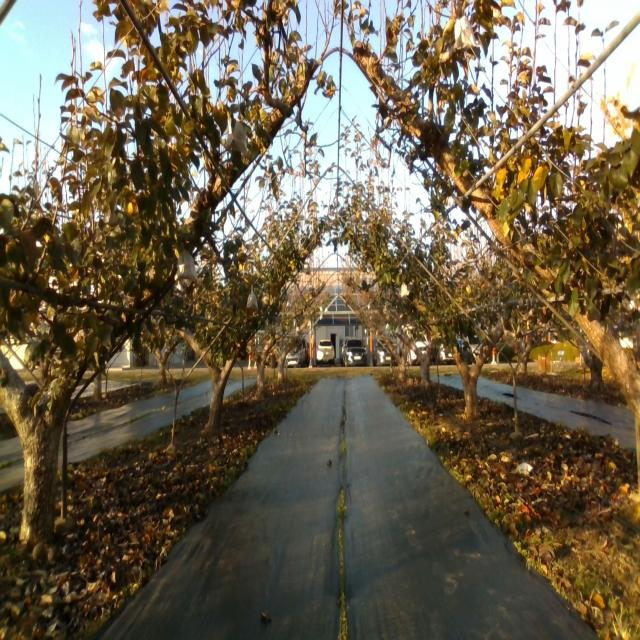pearbags: (224, 120, 248, 154), (454, 16, 478, 49), (174, 250, 198, 282), (247, 288, 259, 311)
